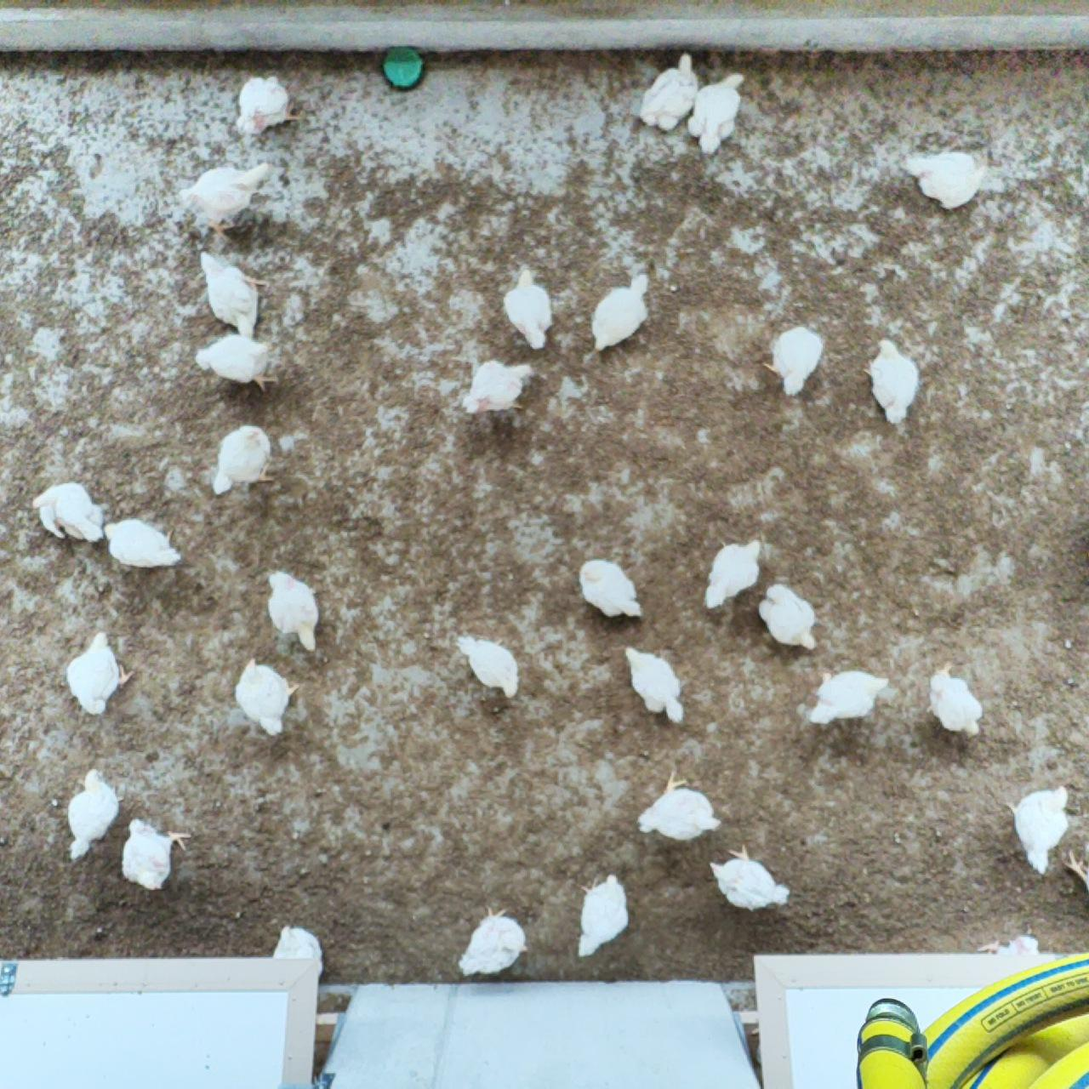chicken: (177, 161, 279, 247), (630, 765, 724, 845), (999, 781, 1073, 877), (704, 838, 791, 916), (197, 248, 269, 342), (64, 627, 135, 721), (62, 763, 125, 864), (589, 270, 661, 358), (570, 868, 635, 965), (119, 813, 195, 894), (860, 335, 925, 429), (621, 641, 692, 727), (921, 654, 988, 743), (193, 329, 282, 396), (456, 901, 531, 980), (903, 146, 990, 214), (804, 667, 892, 734), (637, 48, 701, 139), (230, 656, 301, 738), (685, 71, 750, 160), (757, 320, 830, 398), (206, 421, 279, 499), (264, 567, 326, 657), (30, 477, 108, 547), (699, 533, 768, 611), (459, 357, 539, 423), (231, 70, 303, 143), (449, 631, 523, 702), (754, 580, 822, 657), (501, 263, 558, 354), (576, 555, 647, 626), (104, 517, 186, 572), (270, 920, 327, 979), (978, 930, 1042, 962)
